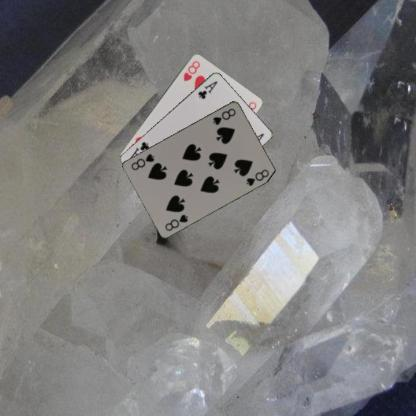8h: (181, 58, 201, 82)
8s: (210, 105, 237, 126), (162, 212, 190, 232)
Ac: (195, 78, 219, 100)
